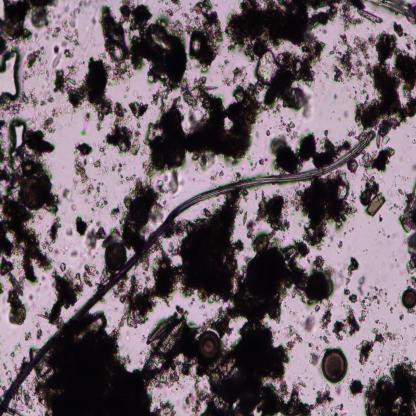Air bubble: (0, 49, 21, 101), (10, 119, 26, 153)
Background material: (226, 0, 325, 117), (144, 79, 258, 178), (196, 320, 312, 416), (228, 242, 332, 327), (46, 332, 153, 414), (175, 199, 243, 307), (355, 30, 416, 142), (118, 240, 184, 332), (132, 4, 186, 94), (292, 180, 358, 250), (0, 206, 53, 280), (0, 155, 60, 215), (66, 53, 114, 124), (362, 355, 416, 415), (110, 182, 158, 249), (242, 190, 292, 251), (97, 2, 133, 83), (268, 132, 341, 169), (0, 1, 58, 47), (186, 2, 224, 70), (46, 260, 81, 326), (330, 32, 372, 83), (3, 319, 34, 383), (358, 320, 398, 367), (400, 182, 416, 289), (356, 276, 392, 321), (326, 1, 382, 26), (106, 121, 143, 155), (359, 173, 386, 217), (59, 7, 81, 57), (370, 0, 416, 23), (333, 306, 360, 340), (360, 148, 394, 172), (72, 156, 93, 194), (23, 130, 56, 154), (22, 46, 46, 78), (343, 255, 359, 302), (54, 66, 77, 95), (186, 380, 206, 410), (110, 161, 138, 182), (5, 298, 26, 325), (22, 92, 54, 108), (79, 104, 93, 139), (86, 227, 106, 251), (312, 386, 331, 411), (80, 262, 98, 287), (392, 24, 414, 44), (320, 301, 334, 332), (41, 110, 59, 134), (278, 116, 298, 137), (22, 393, 42, 414), (165, 171, 182, 195), (62, 187, 75, 215), (0, 99, 21, 116), (128, 101, 148, 118), (347, 378, 364, 398), (47, 219, 61, 242), (72, 141, 93, 156), (113, 101, 126, 124), (89, 197, 107, 213), (152, 402, 176, 414), (74, 217, 90, 235), (0, 258, 16, 275), (0, 134, 8, 166), (51, 47, 62, 70), (386, 197, 399, 215), (304, 315, 316, 334), (346, 158, 360, 174), (76, 1, 94, 12), (308, 354, 320, 366), (378, 226, 390, 236), (341, 109, 351, 120), (0, 118, 8, 129), (66, 224, 72, 238), (94, 159, 102, 169), (36, 328, 42, 340)
Diatom: (36, 313, 107, 394), (144, 321, 185, 378), (147, 314, 175, 344), (197, 328, 221, 362), (323, 348, 347, 382), (104, 243, 128, 270), (189, 32, 205, 59), (8, 274, 22, 296), (401, 289, 416, 309), (282, 247, 298, 264), (376, 134, 382, 148)
Microfibre: (0, 129, 376, 414)
